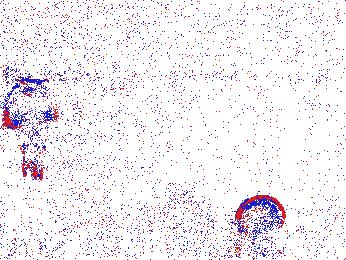flame jellyfish: (5, 80, 56, 179), (36, 201, 87, 254), (233, 196, 284, 246)
